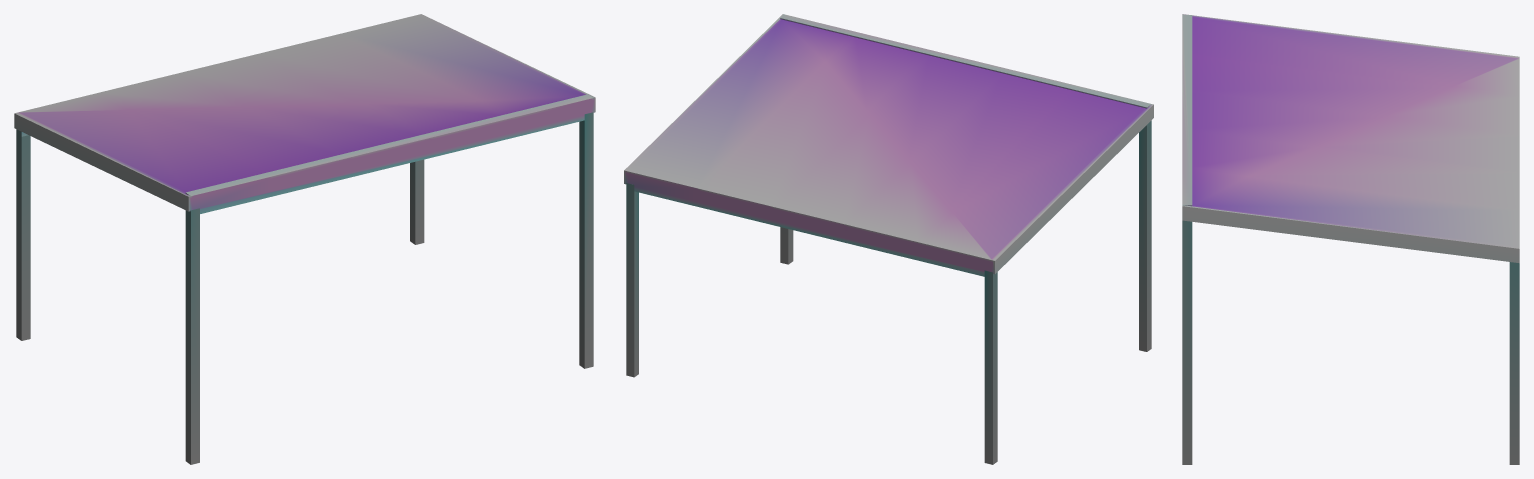
3 renders of one model, left to right at view 1: azimuth 30°, elevation 25°; view 2: azimuth 150°, elevation 25°; view 3: azimuth 270°, elevation 25°, orthographic. The views are drawn at different scales.
Parts seen in each view (by area): view 1: sloping_strip, tall_leg.001, tall_leg, short_leg.001, short_leg; view 2: sloping_strip, tall_leg.001, short_leg.001, short_leg; view 3: sloping_strip, tall_leg, short_leg.
Boxes of the visible parts, <box> form: sloping_strip: <box>14,14,595,213</box>; tall_leg.001: <box>185,208,199,464</box>; tall_leg: <box>579,112,593,368</box>; short_leg.001: <box>16,129,30,340</box>; short_leg: <box>410,159,424,244</box>; sloping_strip: <box>624,14,1153,276</box>; tall_leg.001: <box>1139,120,1151,351</box>; short_leg.001: <box>984,270,997,464</box>; short_leg: <box>626,183,638,377</box>; sloping_strip: <box>1182,14,1519,263</box>; tall_leg: <box>1182,220,1192,464</box>; short_leg: <box>1509,262,1519,464</box>.
Bounding box in the file's own units: 2.53 × 1.59 × 1.88.
